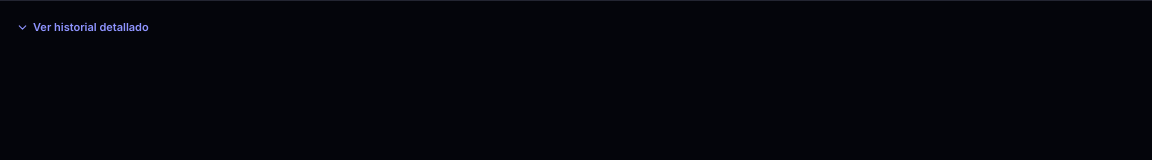
Scenario: BuyerHistoryDetail › huella vieja sin desglose global: no dibuja el resumen ni la alerta
Click the button "Ver historial detallado" at point(91, 27), box [16,5,1136,49]
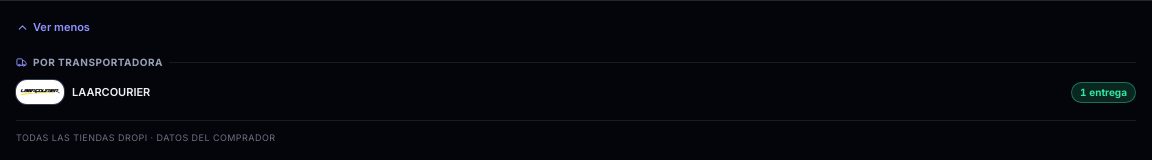
expect the text "LAARCOURIER" is shown: met, box [72,84,150,100]
